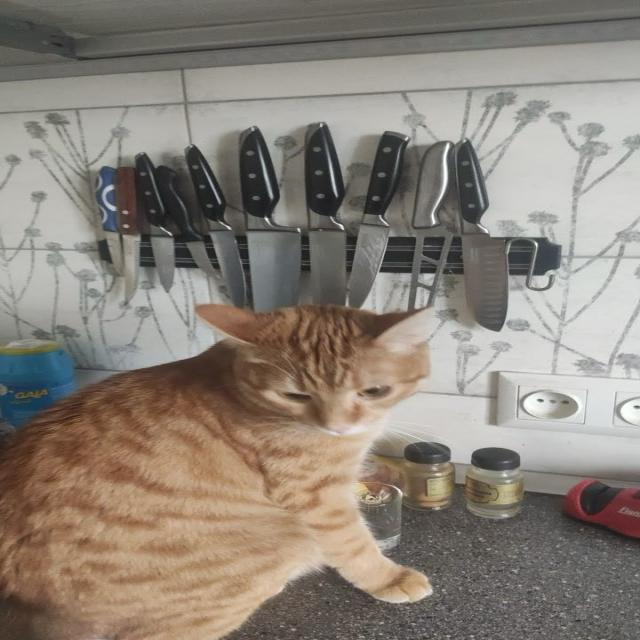red_cat: (0, 304, 466, 640)
